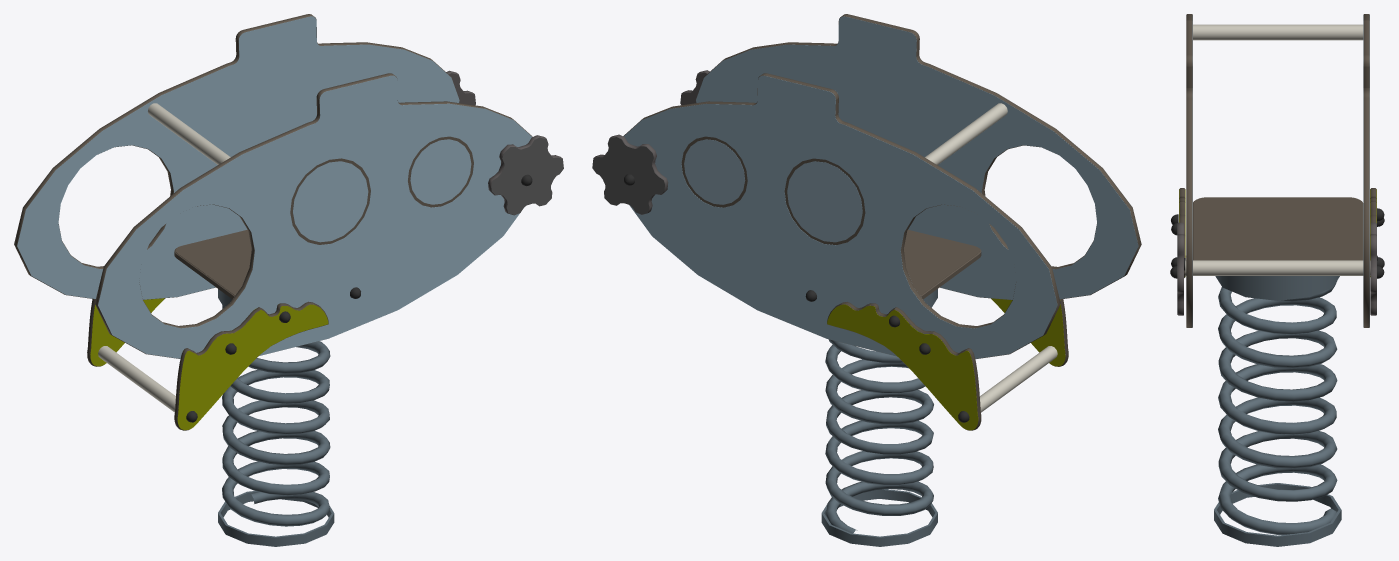
The picture shows the model from 3 angles, left to right: view 1: azimuth 30°, elevation 25°; view 2: azimuth 150°, elevation 25°; view 3: azimuth 270°, elevation 25°; orthographic projection. The views are drawn at different scales.
Visible parts, largest first — view 1: SM_208; view 2: SM_208; view 3: SM_208.
Part boxes in pixels (bbox=[...]): SM_208: bbox=[14, 14, 563, 546]; SM_208: bbox=[592, 14, 1141, 546]; SM_208: bbox=[1170, 14, 1384, 546].
Bounding box in the file's own units: 1.04 × 0.9899 × 0.3819.
